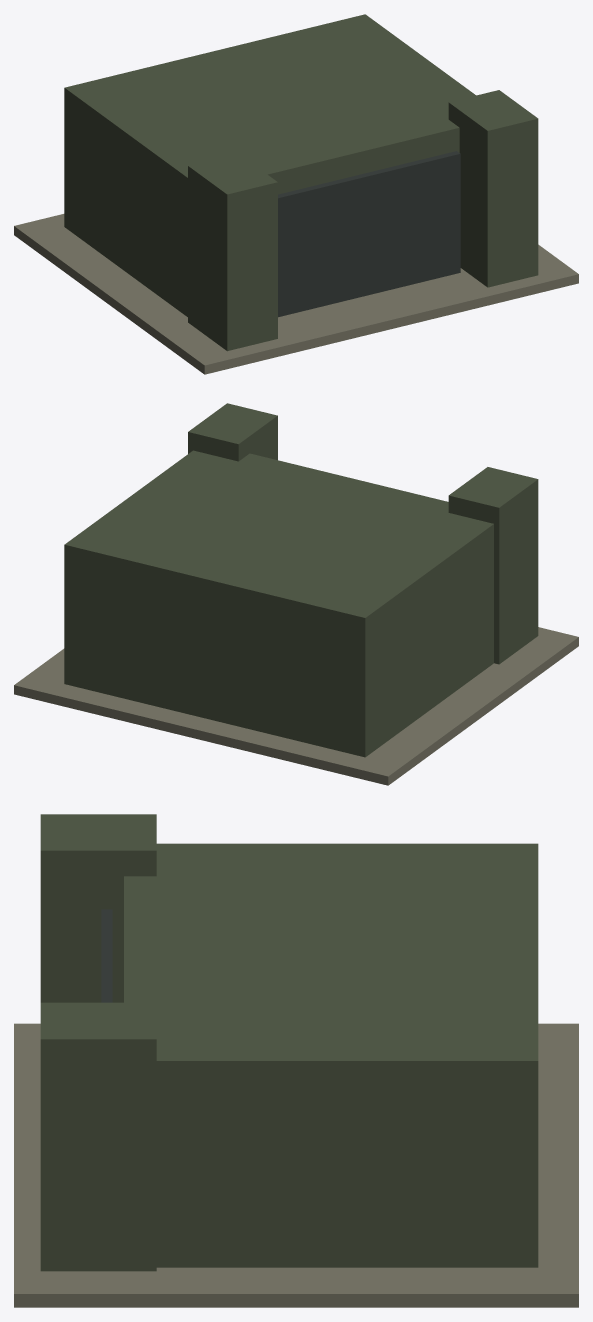
Rendered from Bastion_WarFactory_LOD1.obj.
3 renders of one model, top to bottom at view 1: azimuth 30°, elevation 25°; view 2: azimuth 150°, elevation 25°; view 3: azimuth 270°, elevation 25°, orthographic. The views are drawn at different scales.
Visible parts, largest first — view 1: Bastion_WarFactory_LOD1; view 2: Bastion_WarFactory_LOD1; view 3: Bastion_WarFactory_LOD1.
Part boxes in pixels (x1=…): Bastion_WarFactory_LOD1: x1=14, y1=14, x2=578, y2=374; Bastion_WarFactory_LOD1: x1=14, y1=403, x2=578, y2=785; Bastion_WarFactory_LOD1: x1=14, y1=814, x2=578, y2=1307.
Bounding box in the file's own units: 10.2 × 4.32 × 9.
1 material, 1 textured.
